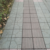others: (24, 1, 46, 49)
